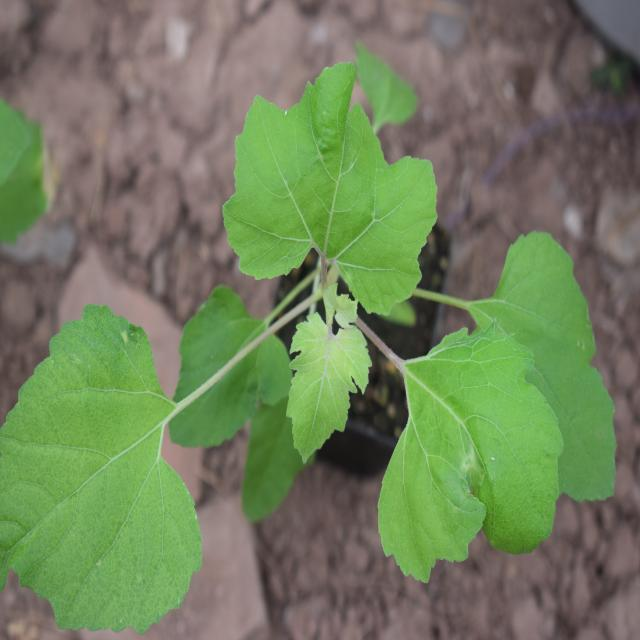cocklebur: (0, 77, 607, 608)
